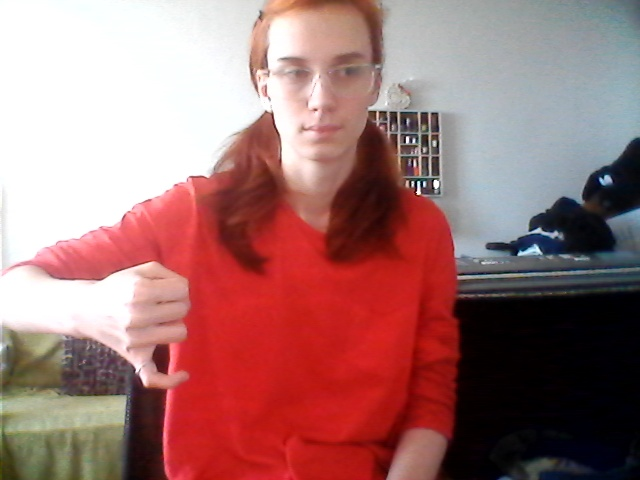j: (76, 251, 238, 397)
